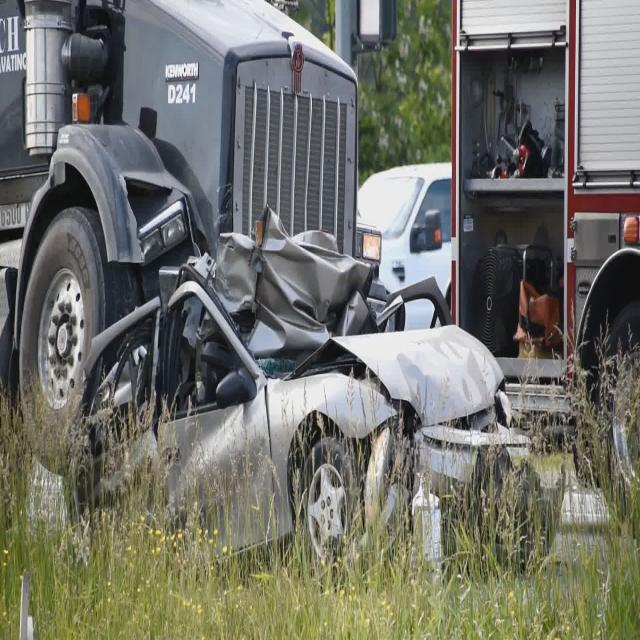accident: (72, 209, 529, 558)
truck: (0, 0, 402, 464)
